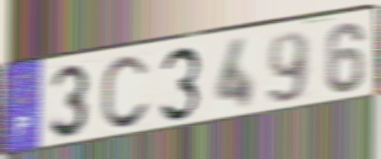3: (45, 61, 96, 143), (154, 44, 206, 124)
4: (212, 33, 258, 116)
6: (324, 20, 366, 96)
9: (265, 29, 315, 105)
C: (98, 53, 151, 134)
